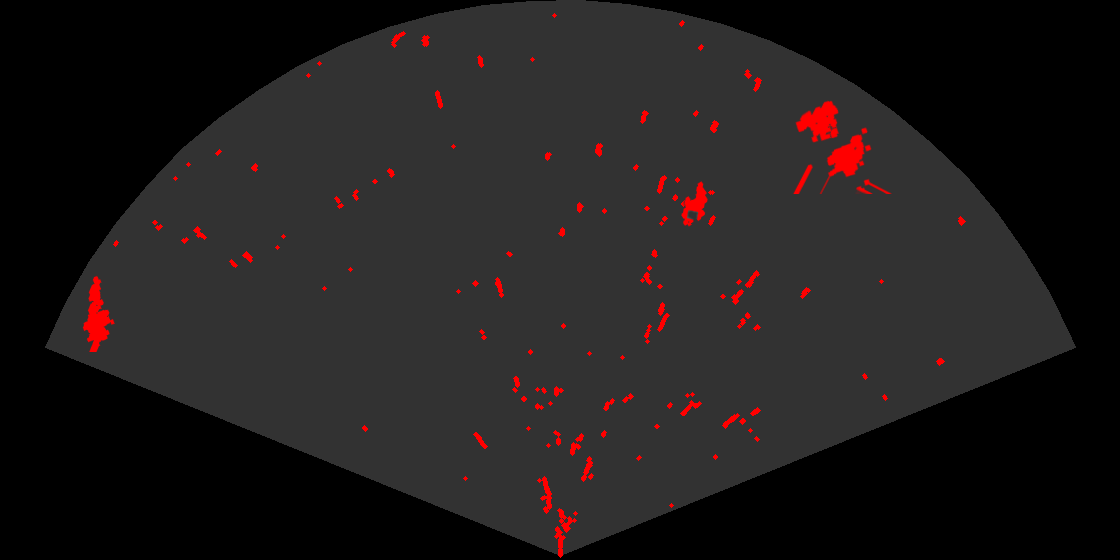AUV: (680, 180, 709, 228)
cage: (791, 99, 893, 194)
frogman: (81, 274, 116, 352)
